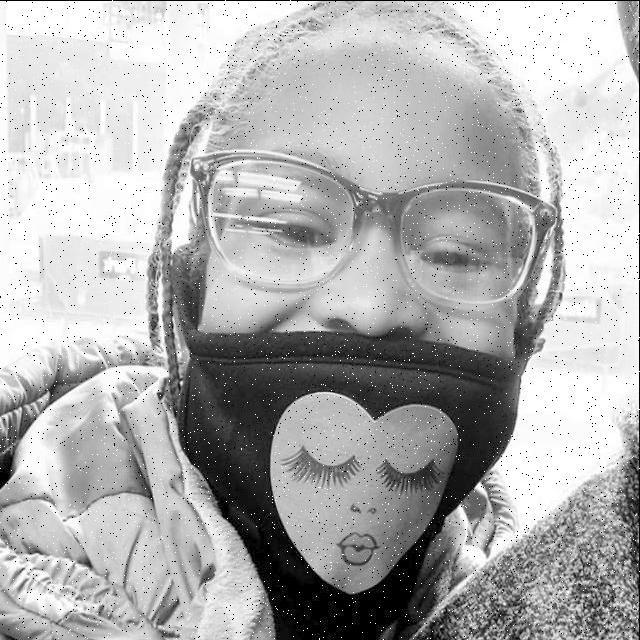hairnet: (176, 282, 526, 560)
